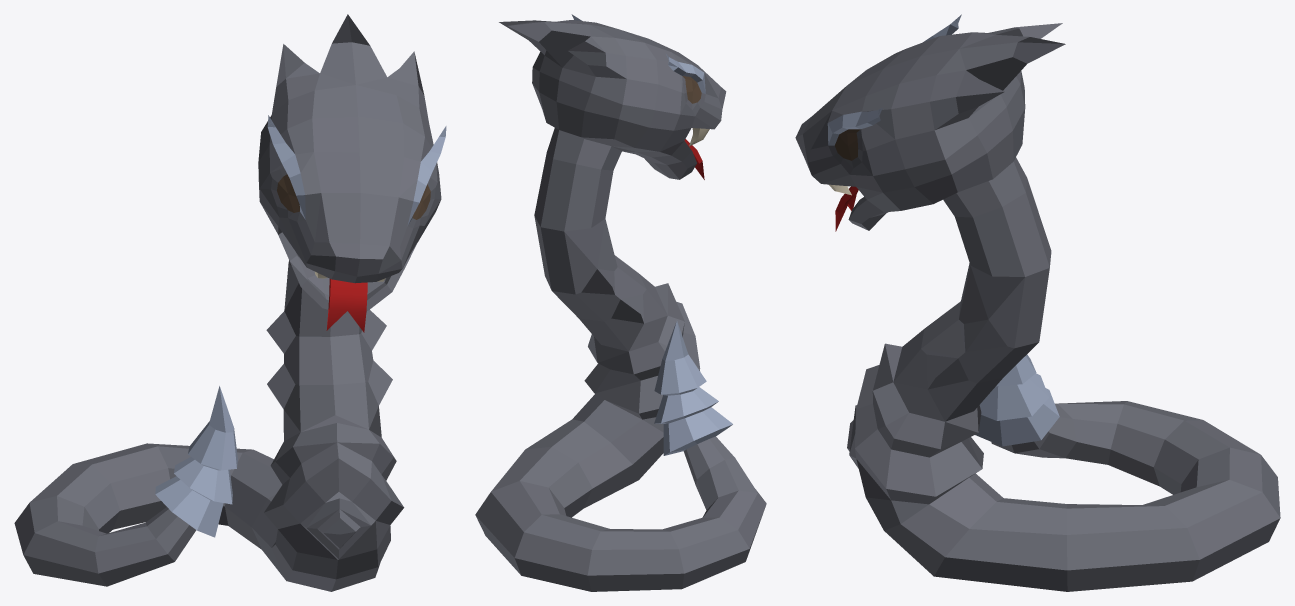
Rendered from Snake_acc.FBX.
3 renders of one model, left to right at view 1: azimuth 30°, elevation 25°; view 2: azimuth 150°, elevation 25°; view 3: azimuth 270°, elevation 25°, orthographic. The views are drawn at different scales.
Visible parts, largest first — view 1: Snake_acc; view 2: Snake_acc; view 3: Snake_acc.
Part boxes in pixels (<box>): Snake_acc: <box>14,14,446,591</box>; Snake_acc: <box>475,14,766,591</box>; Snake_acc: <box>795,14,1280,591</box>.
Size of the model in its own units: 82.06 by 123 by 95.43.
